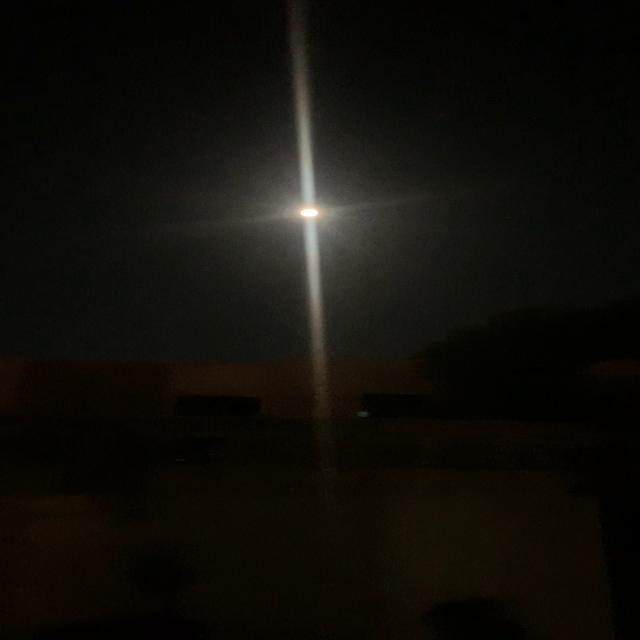moon: (284, 201, 328, 227)
